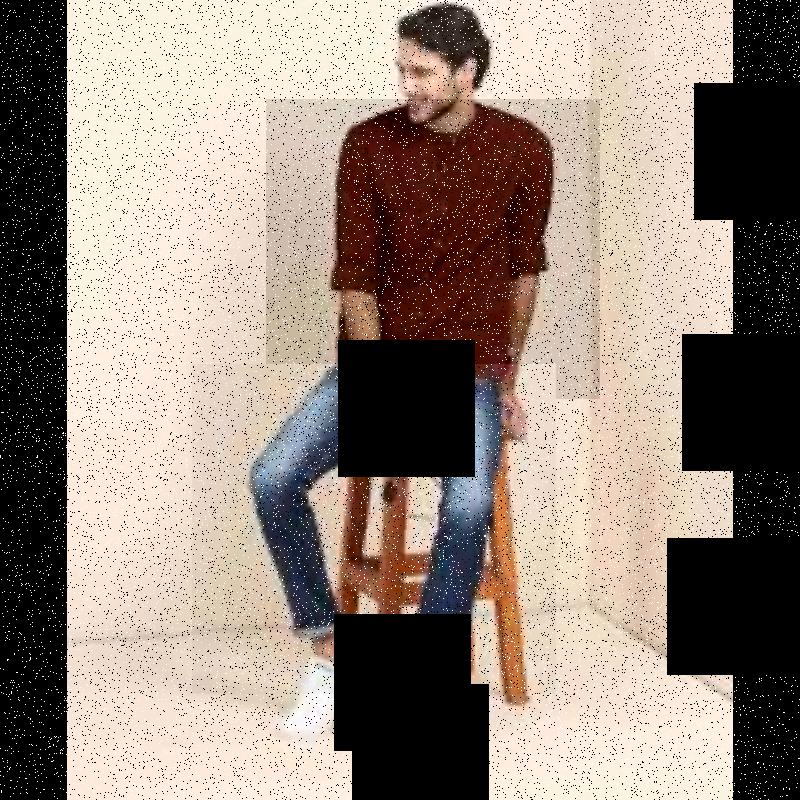Jeans: (192, 364, 556, 694)
Shirt: (266, 99, 600, 399)
